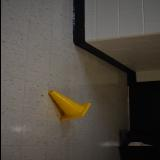cone: (48, 90, 91, 120)
